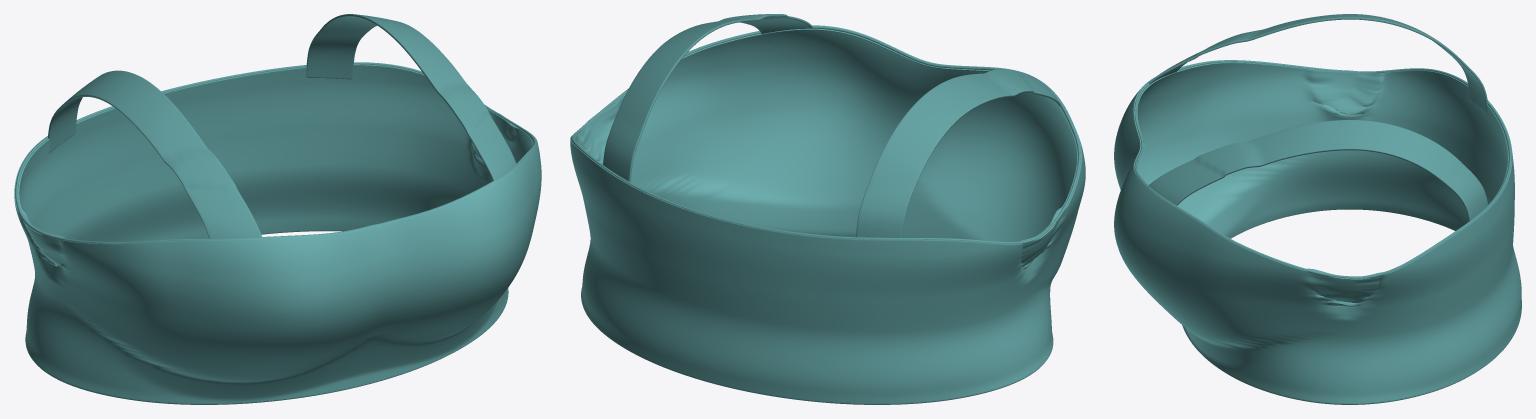
The model's file is Feminine-tank-top.glb.
3 views of the same model, side by side, from view 1: azimuth 30°, elevation 25°; view 2: azimuth 150°, elevation 25°; view 3: azimuth 270°, elevation 25° (orthographic). The views are drawn at different scales.
Visible parts, largest first — view 1: Clothing / tank body, Clothing / Tank seated shoulder strap -1, Clothing / Tank seated shoulder strap 1, tank body / bound edge.001 export, tank body / bound edge export; view 2: Clothing / tank body, Clothing / Tank seated shoulder strap -1, Clothing / Tank seated shoulder strap 1, tank body / bound edge.001 export, tank body / bound edge export; view 3: Clothing / tank body, Clothing / Tank seated shoulder strap 1, Clothing / Tank seated shoulder strap -1, tank body / bound edge.001 export.
Part boxes in pixels (left/top/right/bottom): Clothing / tank body: left=14, top=64, right=541, bottom=404; Clothing / Tank seated shoulder strap -1: left=48, top=70, right=261, bottom=238; Clothing / Tank seated shoulder strap 1: left=306, top=14, right=516, bottom=180; tank body / bound edge.001 export: left=15, top=62, right=536, bottom=243; tank body / bound edge export: left=36, top=231, right=454, bottom=404; Clothing / tank body: left=570, top=25, right=1085, bottom=404; Clothing / Tank seated shoulder strap -1: left=856, top=69, right=1061, bottom=237; Clothing / Tank seated shoulder strap 1: left=603, top=14, right=812, bottom=182; tank body / bound edge.001 export: left=571, top=26, right=1080, bottom=243; tank body / bound edge export: left=631, top=352, right=1044, bottom=404; Clothing / tank body: left=1114, top=60, right=1521, bottom=403; Clothing / Tank seated shoulder strap 1: left=1148, top=120, right=1487, bottom=221; Clothing / Tank seated shoulder strap -1: left=1148, top=14, right=1487, bottom=113; tank body / bound edge.001 export: left=1134, top=60, right=1511, bottom=278.
Bounding box in the file's own units: 0.6426 × 0.3439 × 0.5336.
